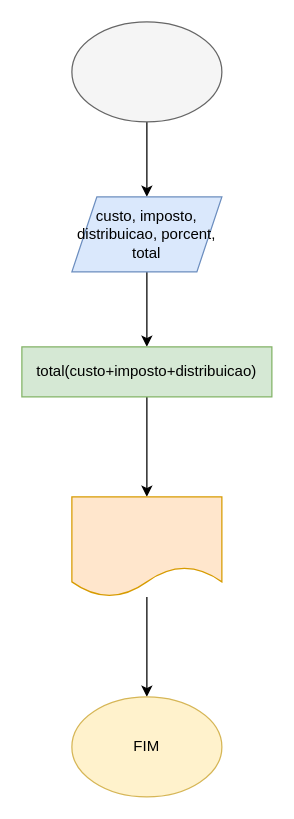
The diagram is 294 pixels wide and 819 high, and some of its shapes have lost their labels. The shapes that lost their labels are listed below. From the top down, each one's box as (x1, y1, x2, y2) in pixels, then its label:
(71, 21, 222, 122): INÌCIO
(71, 496, 222, 597): total
